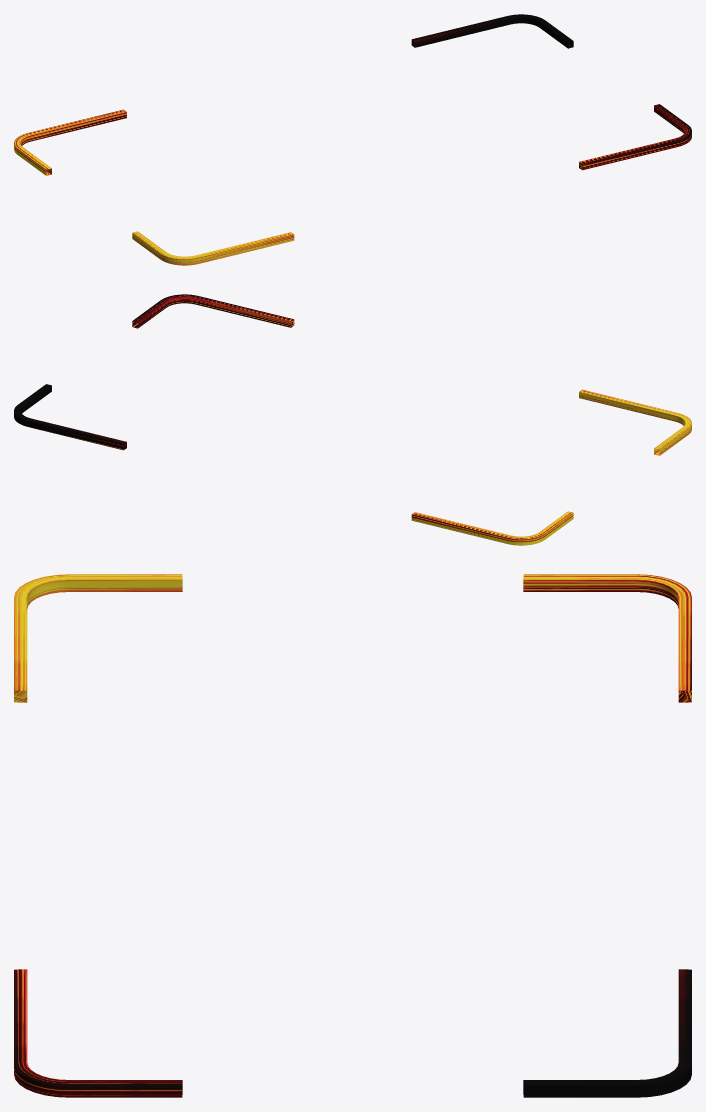
Rendered from 0515_zhunxin_z03.glb.
The picture shows the model from 3 angles, top to bottom: view 1: azimuth 30°, elevation 25°; view 2: azimuth 150°, elevation 25°; view 3: azimuth 270°, elevation 25°; orthographic projection. The views are drawn at different scales.
Size of the model in its own units: 2.2 by 0.0242 by 1.23.
Materials: 1 (1 with a texture image).
